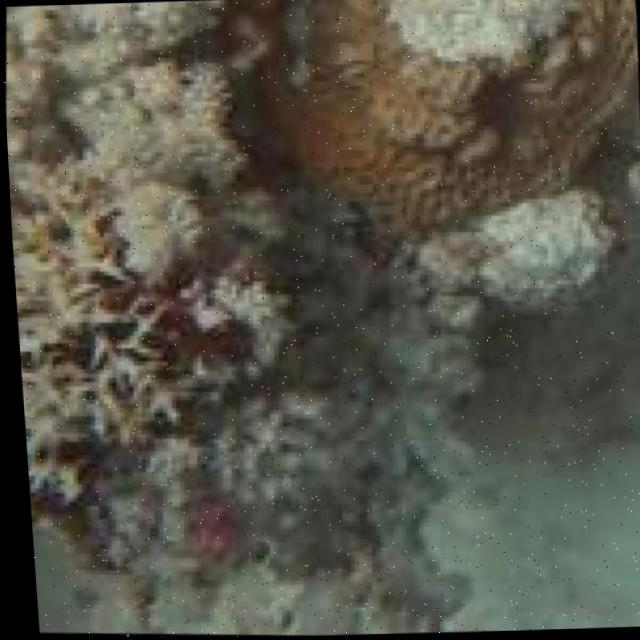Bleached Coral: (1, 12, 243, 225), (10, 246, 154, 511), (407, 180, 628, 306), (381, 3, 588, 63)
Dead Coral: (196, 324, 479, 615)
